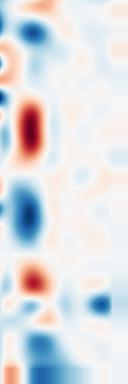filament: (9, 97, 53, 174), (16, 255, 54, 307)
